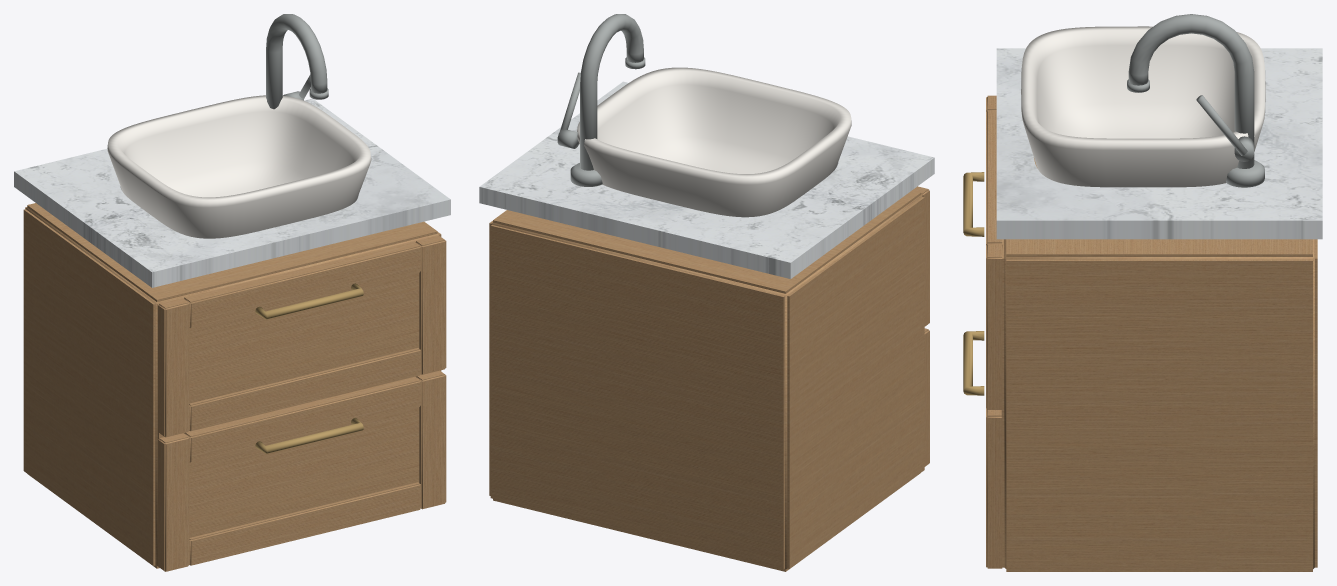
File: scandinavian.wall_vanity.gltf
3 views of the same model, side by side, from view 1: azimuth 30°, elevation 25°; view 2: azimuth 150°, elevation 25°; view 3: azimuth 270°, elevation 25° (orthographic). The views are drawn at different scales.
Visible parts, largest first — view 1: scandinavian.wall_vanity.wall-hung-cabinet; view 2: scandinavian.wall_vanity.wall-hung-cabinet; view 3: scandinavian.wall_vanity.wall-hung-cabinet.
Part boxes in pixels (x1,y1,x2,y2): scandinavian.wall_vanity.wall-hung-cabinet: (14, 14, 450, 571); scandinavian.wall_vanity.wall-hung-cabinet: (479, 14, 934, 571); scandinavian.wall_vanity.wall-hung-cabinet: (963, 14, 1322, 571).
Size of the model in its own units: 0.5 by 0.7052 by 0.441.
5 materials, 2 textured.
